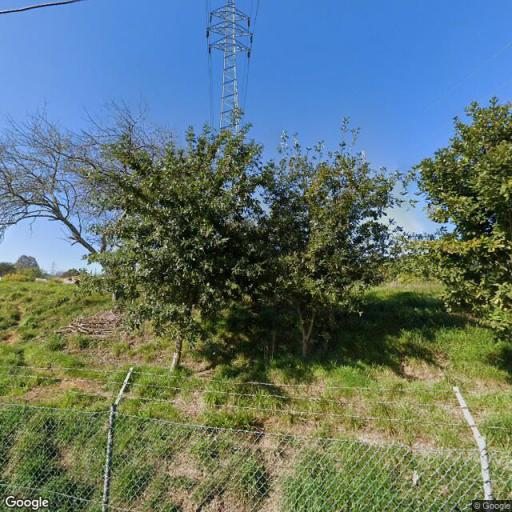ss_3: (204, 0, 256, 145)
